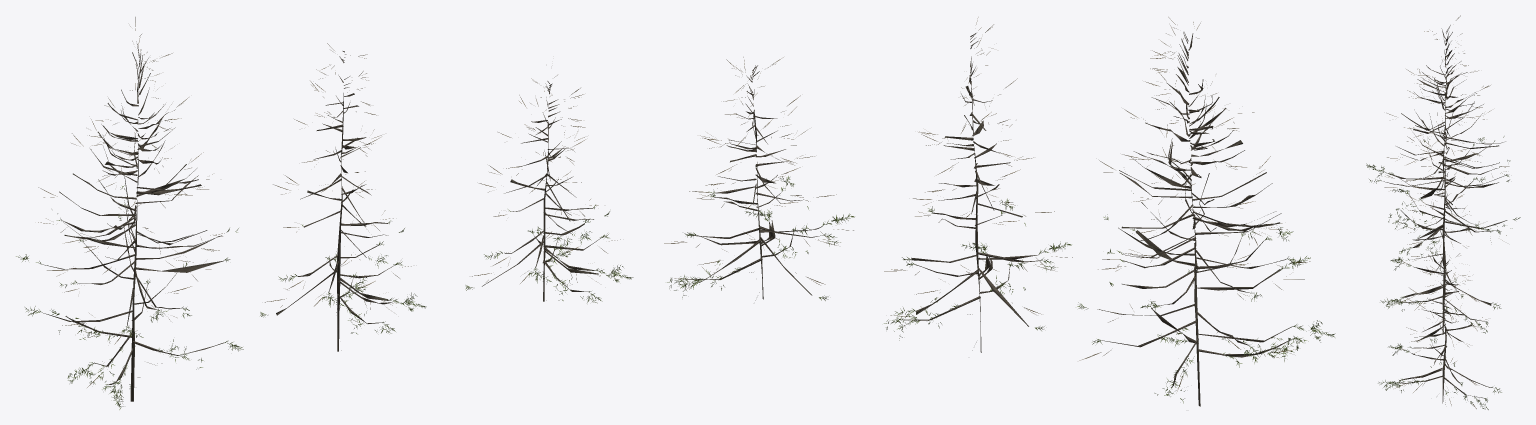
The model's file is WorldTree.fbx.
The picture shows the model from 3 angles, left to right: view 1: azimuth 30°, elevation 25°; view 2: azimuth 150°, elevation 25°; view 3: azimuth 270°, elevation 25°; orthographic projection. The views are drawn at different scales.
Visible parts, largest first — view 1: WorldTree; view 2: WorldTree; view 3: WorldTree.
Part boxes in pixels (x1=…): WorldTree: x1=16, y1=17, x2=633, y2=409; WorldTree: x1=664, y1=17, x2=1335, y2=406; WorldTree: x1=1366, y1=15, x2=1520, y2=409.
Bounding box in the file's own units: 3.27 × 1.99 × 1.08.
Materials: 3 (3 with a texture image).
